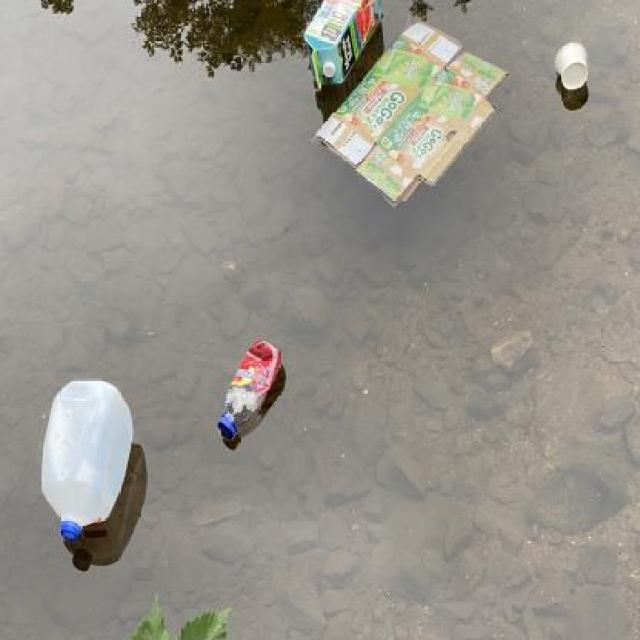Cardboard: (309, 16, 513, 212), (299, 0, 382, 98)
Cup: (552, 36, 594, 97)
Plastic: (36, 370, 140, 544), (210, 334, 288, 450)
